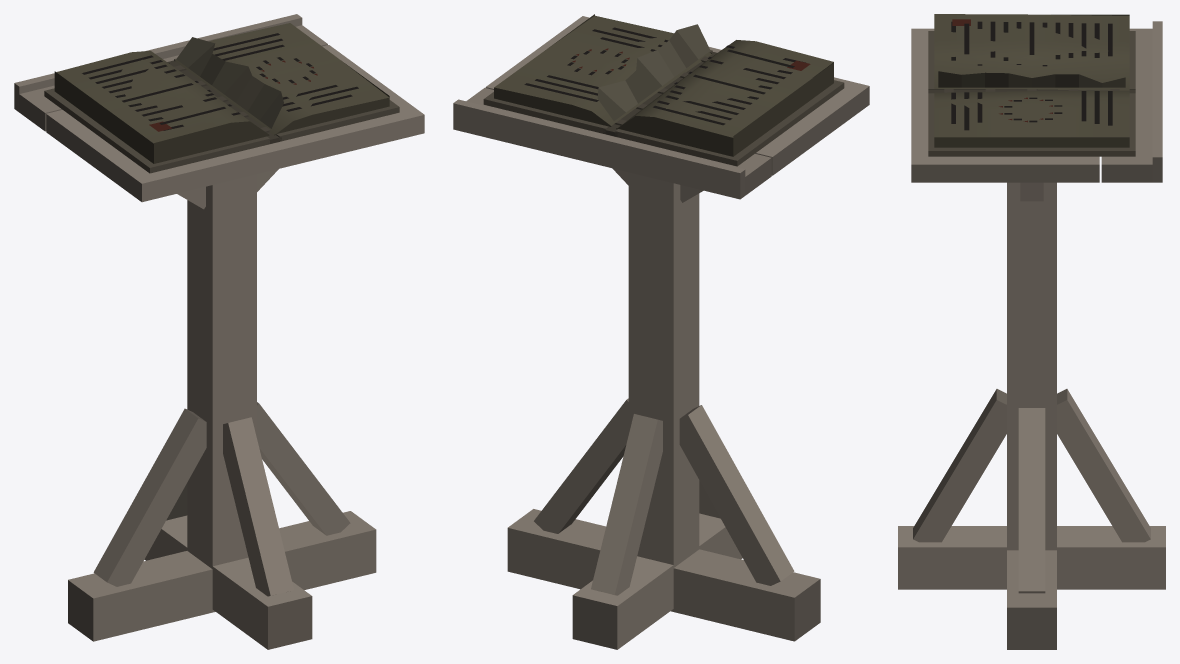
The model's file is prop_cult_book.glb.
3 views of the same model, side by side, from view 1: azimuth 30°, elevation 25°; view 2: azimuth 150°, elevation 25°; view 3: azimuth 270°, elevation 25° (orthographic). The views are drawn at different scales.
Parts seen in each view (by area): view 1: CultBook, CultBookSoft; view 2: CultBook, CultBookSoft; view 3: CultBook, CultBookSoft.
Part boxes in pixels (x1,y1,x2,y2): CultBook: (14, 14, 424, 649); CultBookSoft: (56, 23, 388, 142); CultBook: (453, 14, 869, 649); CultBookSoft: (494, 15, 833, 137); CultBook: (898, 14, 1165, 649); CultBookSoft: (934, 14, 1129, 137).
Size of the model in its own units: 0.48 by 0.8543 by 0.4.
